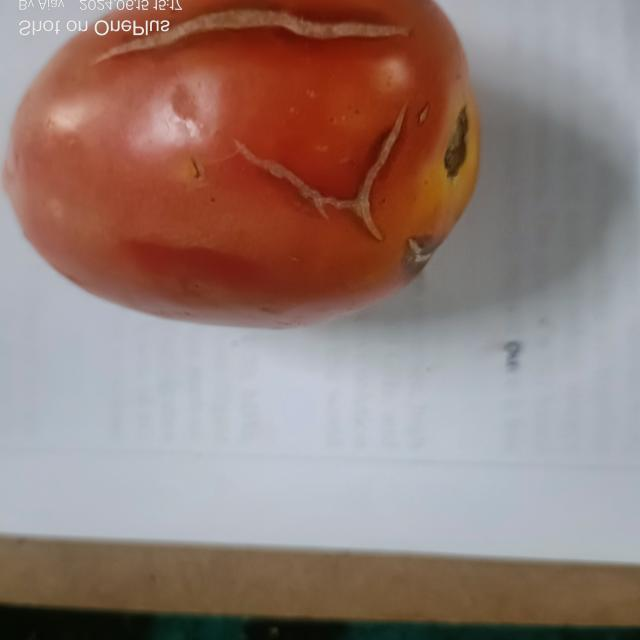tomato_cracking: (109, 9, 425, 51), (350, 115, 406, 248)
